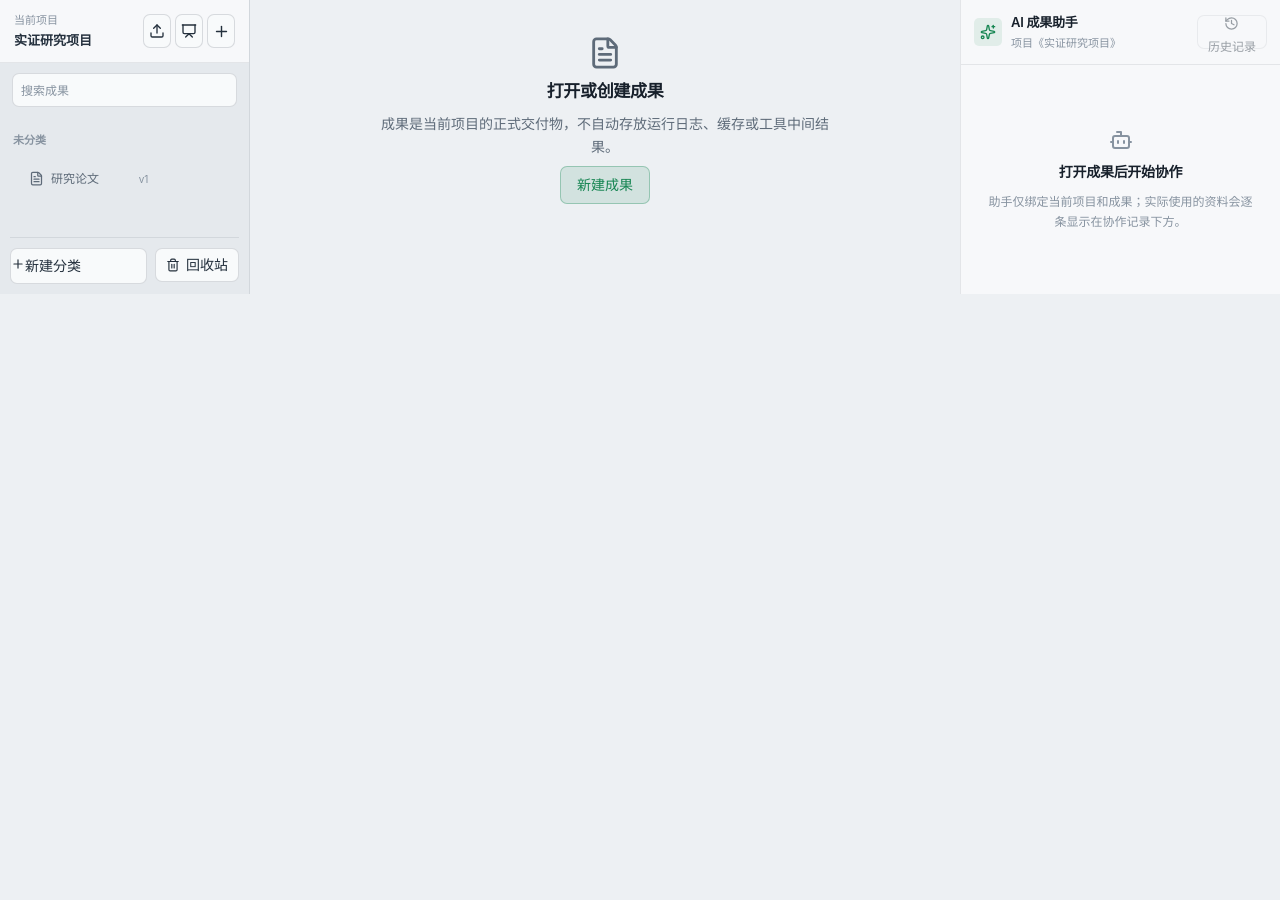
it: OutcomesPage › places Word layout before DOCX export in the outcome action row
Click the text "研究论文": click(75, 179) x1=51 y1=171 x2=99 y2=186
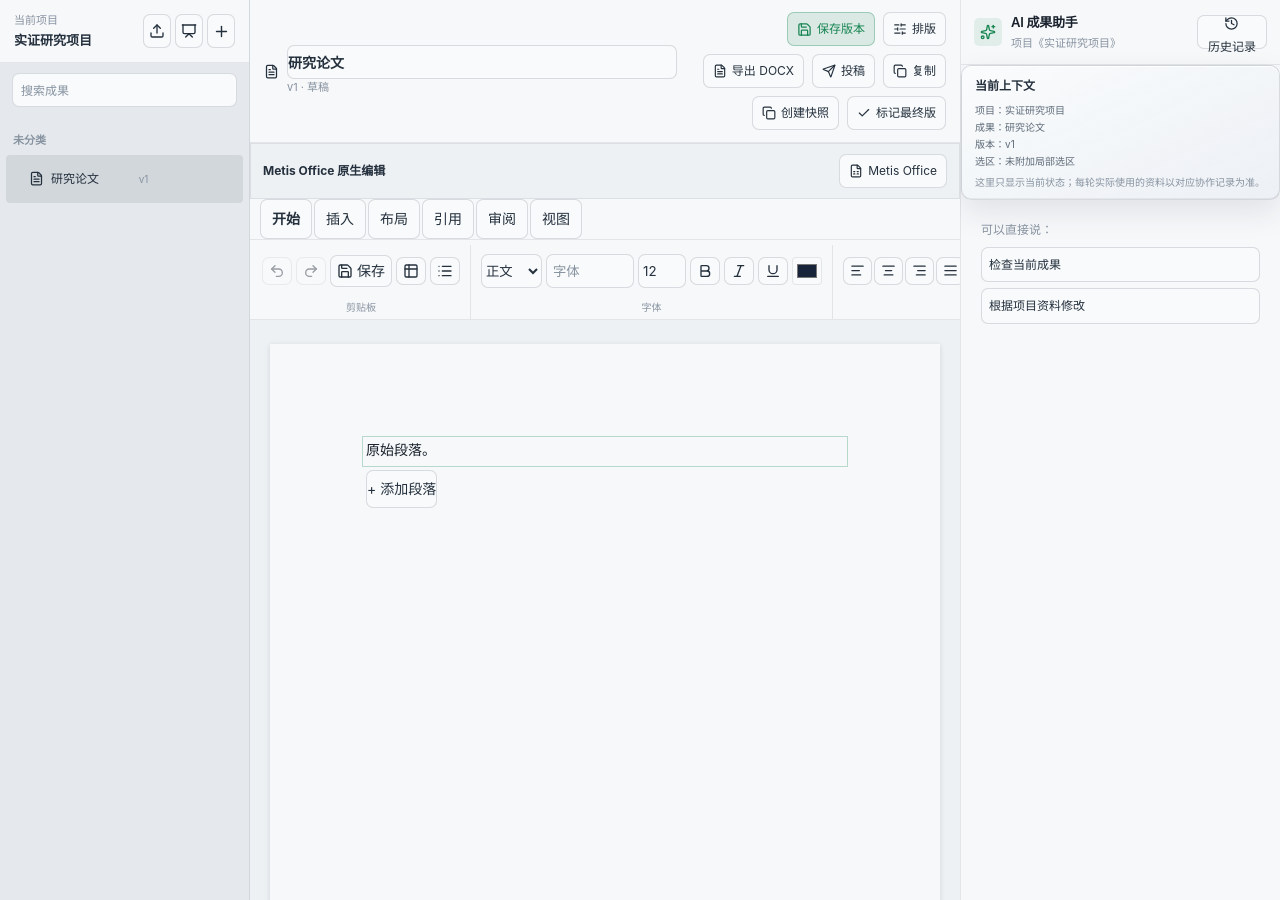
Expected: the element with class "outcomes-editor-head__actions" is shown, x1=689 y1=12 x2=946 y2=130
